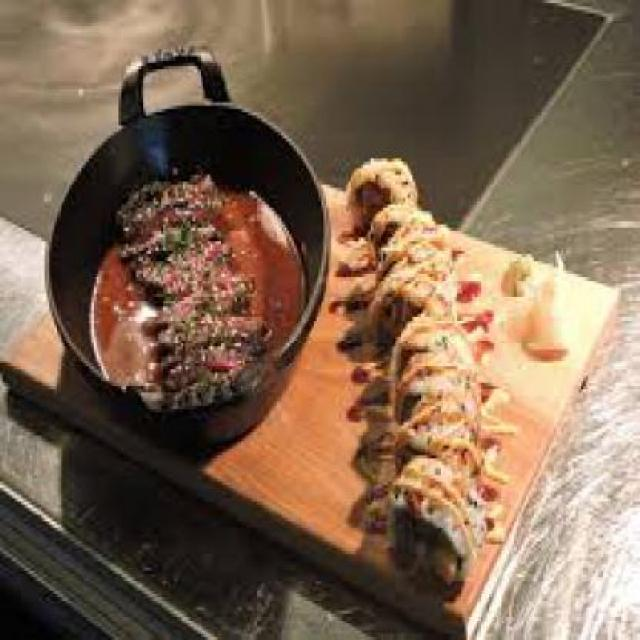steak: (96, 168, 267, 402)
sushi: (323, 145, 497, 578)
